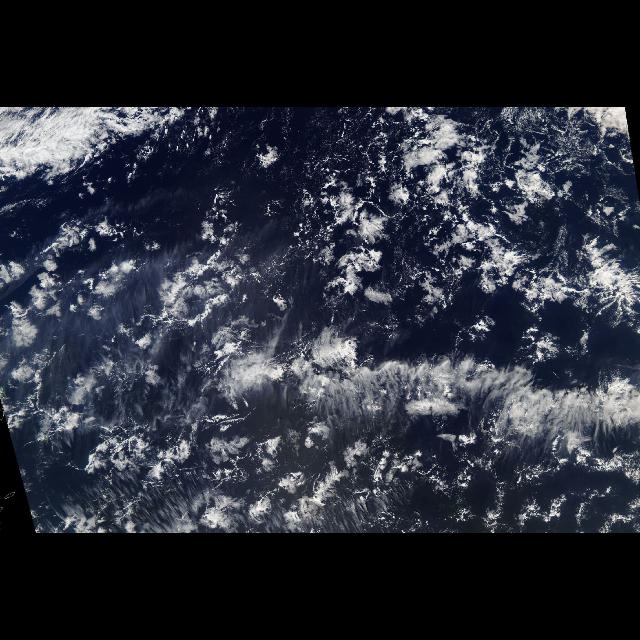Fish: (286, 346, 636, 452)
Flower: (4, 222, 396, 524), (402, 112, 636, 338)
